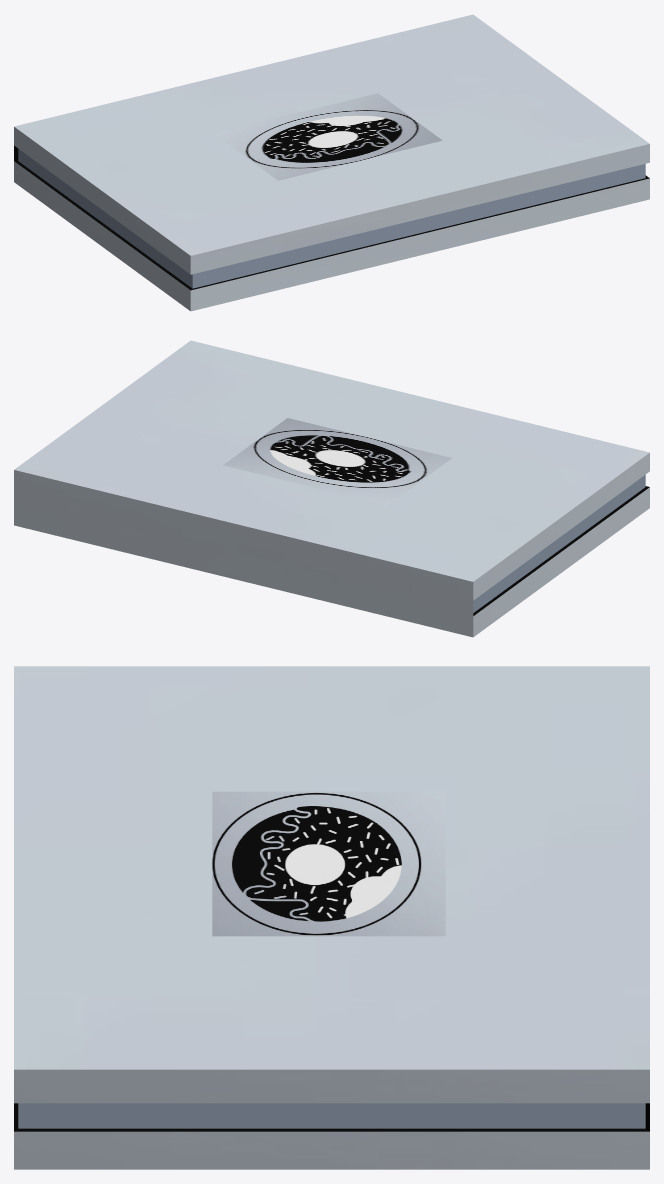
The model's file is NotebookC.fbx.
3 renders of one model, top to bottom at view 1: azimuth 30°, elevation 25°; view 2: azimuth 150°, elevation 25°; view 3: azimuth 270°, elevation 25°, orthographic. The views are drawn at different scales.
Parts seen in each view (by area): view 1: Cube; view 2: Cube; view 3: Cube.
Boxes of the visible parts, box(x1,y1,x2,y2) form: Cube: box(14, 14, 649, 311); Cube: box(14, 340, 649, 637); Cube: box(14, 666, 649, 1169).
Bounding box in the file's own units: 36 × 4.16 × 24.
Materials: 3 (1 with a texture image).
